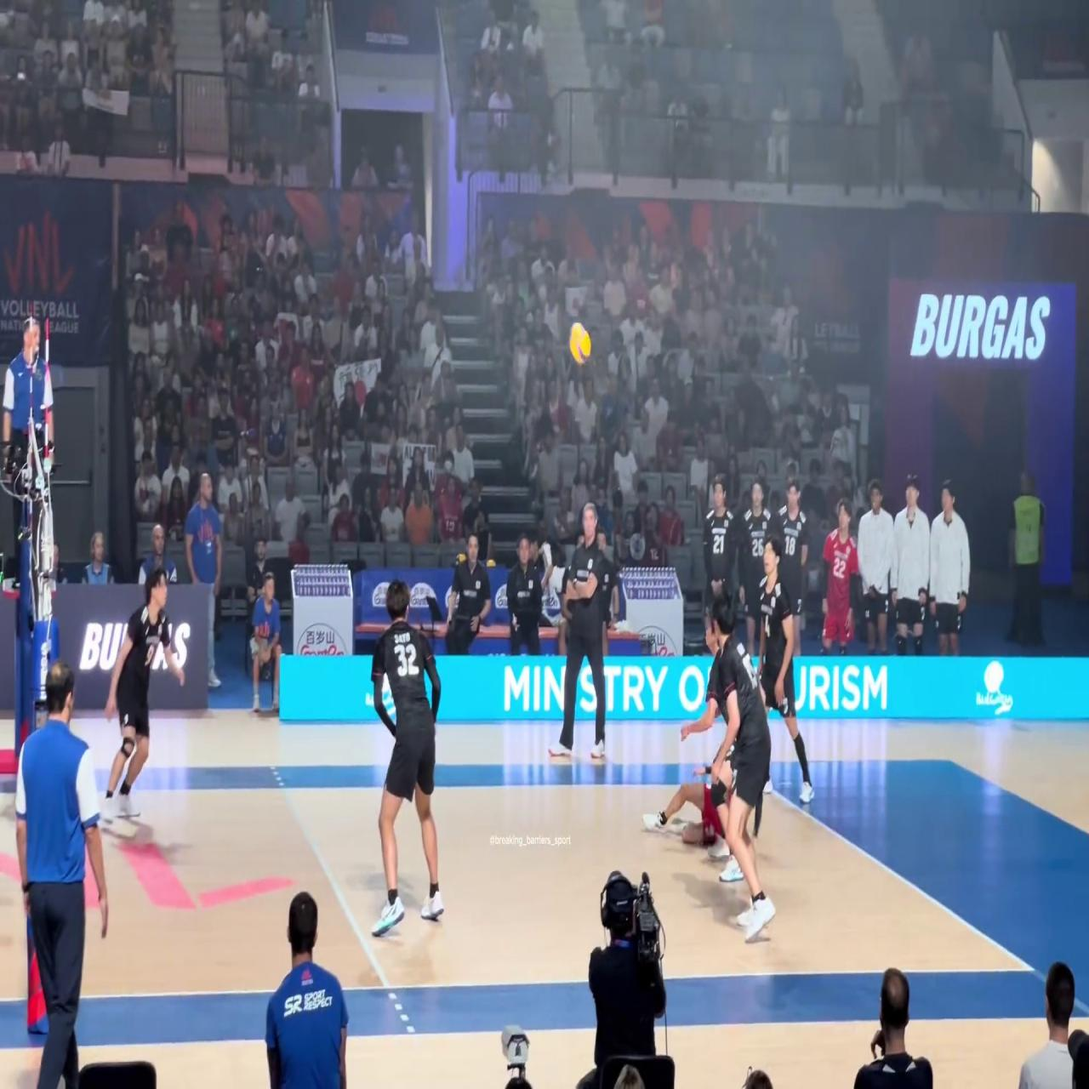ball: (569, 324, 591, 365)
